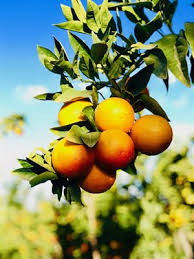orange: (49, 133, 95, 178), (133, 113, 175, 155), (95, 130, 137, 169), (54, 93, 96, 131), (80, 163, 120, 198), (94, 98, 136, 131)
